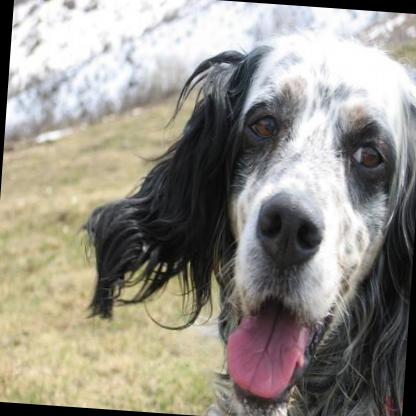English_setter: (65, 12, 416, 416)
